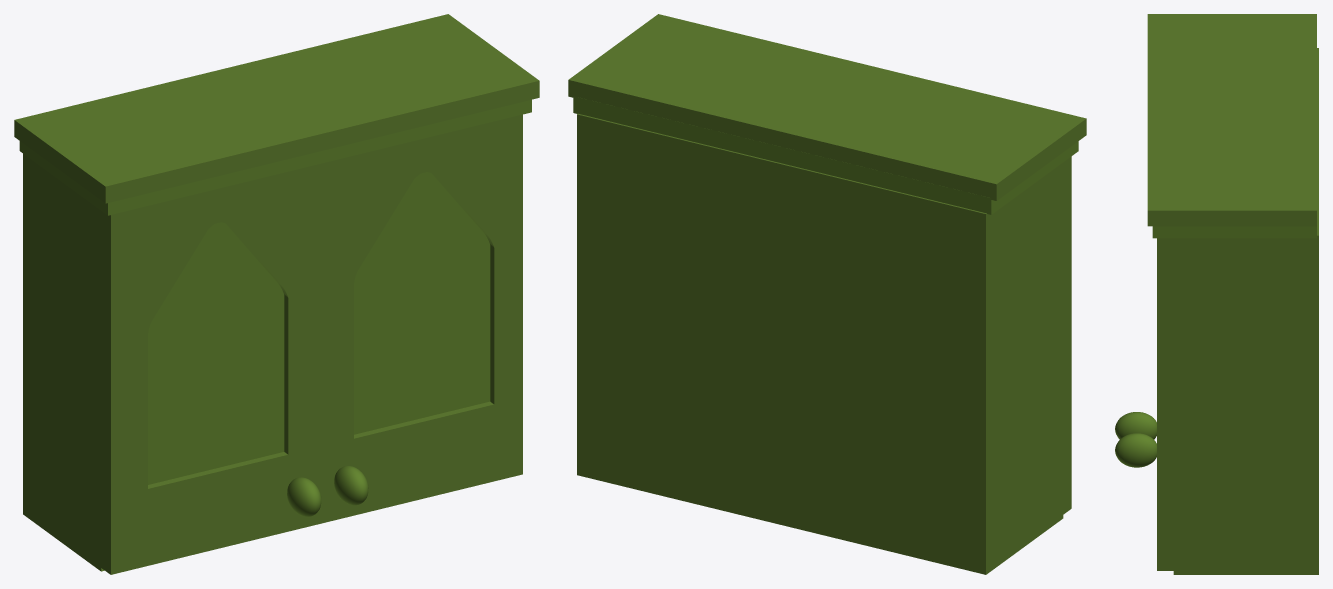
File: alacenaIZq.OBJ
3 renders of one model, left to right at view 1: azimuth 30°, elevation 25°; view 2: azimuth 150°, elevation 25°; view 3: azimuth 270°, elevation 25°, orthographic. The views are drawn at different scales.
Visible parts, largest first — view 1: alacena:pSphere7; view 2: alacena:pSphere7; view 3: alacena:pSphere7.
Part boxes in pixels (box(x1,y1,x2,y2)): alacena:pSphere7: box(14, 14, 539, 574); alacena:pSphere7: box(568, 14, 1086, 574); alacena:pSphere7: box(1115, 14, 1318, 574).
Size of the model in its own units: 3.08 by 2.69 by 1.35.
Materials: 5 (5 with a texture image).
